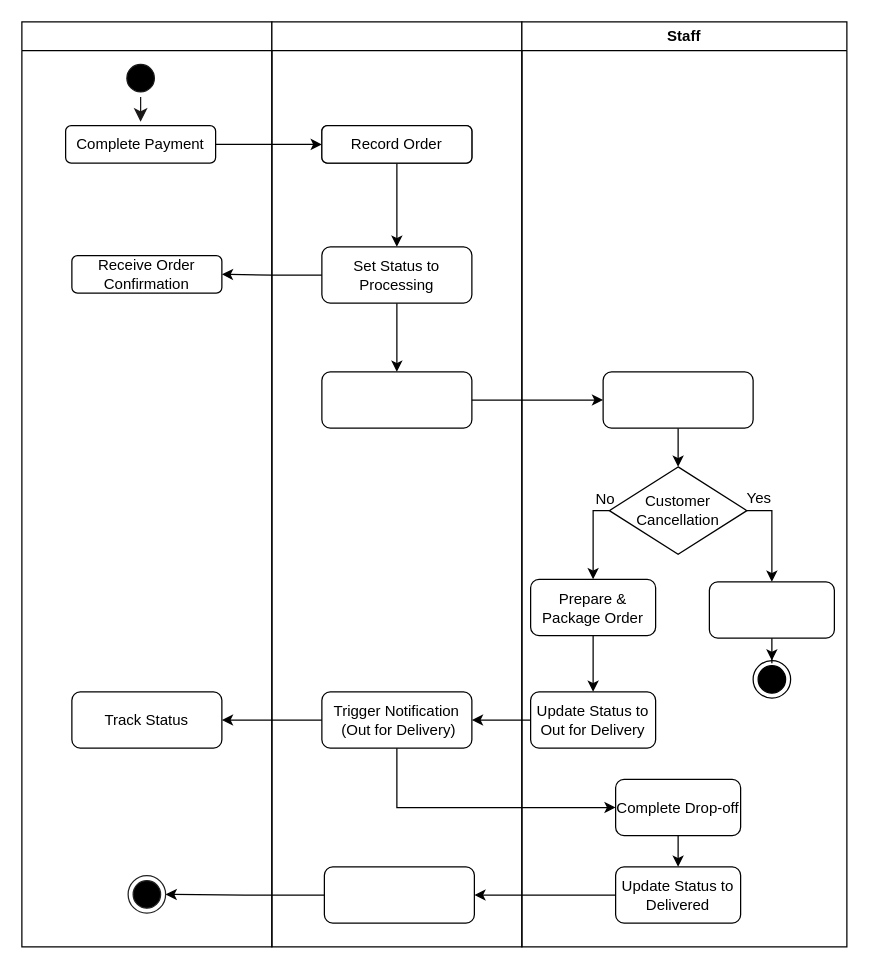
Some shapes in this 869 by 969 pixel diagram are drawn without their labels. The box of each missing label's shape, as (x1, y1, x2, y2) in pixels:
Access Fulfillment Dashboard: (602, 371, 753, 428)
Customer: (21, 21, 272, 947)
Process Refund: (708, 581, 834, 638)
Route Order to Fulfillment Dashboard: (321, 371, 472, 428)
System: (271, 21, 522, 947)
Trigger Notification (Delivered): (323, 866, 474, 923)
